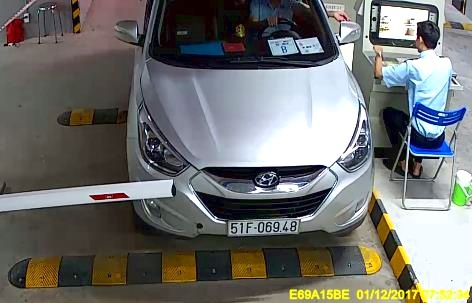plate: (226, 218, 301, 235)
